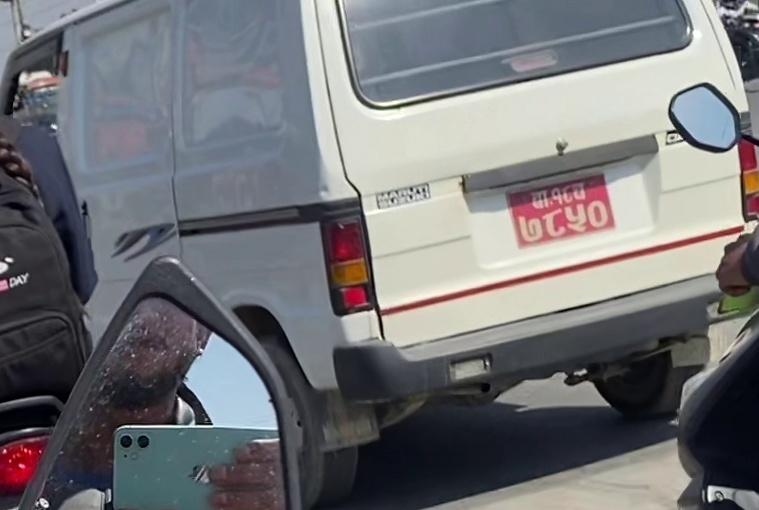license-plate: (501, 179, 630, 249)
